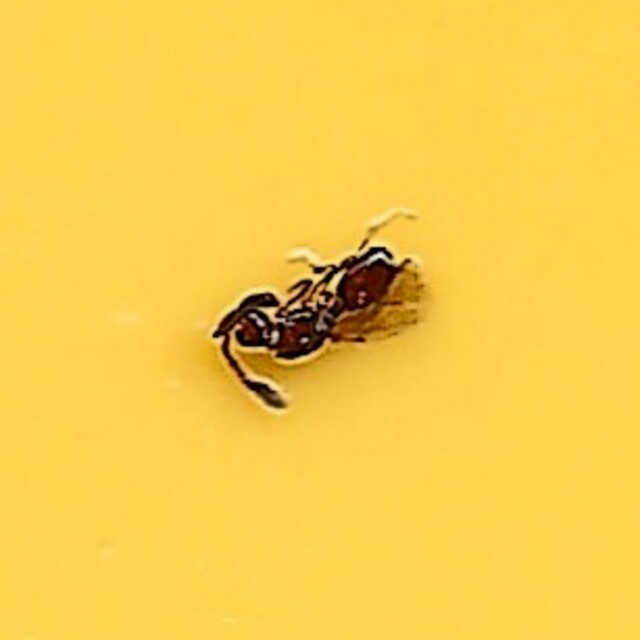Hymenoptera: (208, 221, 432, 419)
